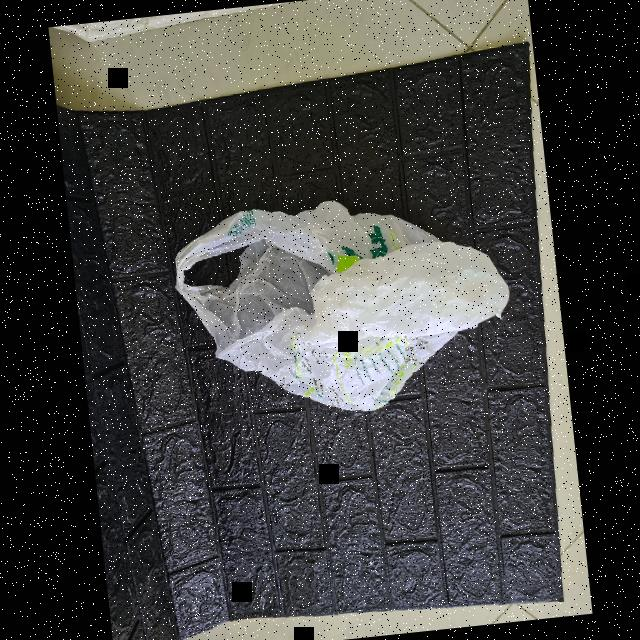plastic_bag: (154, 165, 520, 437)
